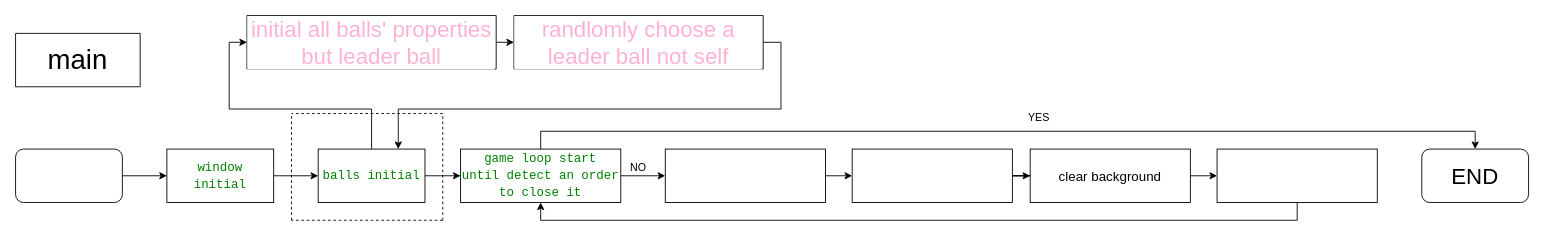
Some shapes in this 1544 by 243 pixel diagram are drawn without their labels. The shapes that lost their labels are listed below. From the top down, each one's centre as x and y in pixels, then its label:
the point at 68,175: start
the point at 744,175: drawing balls
the point at 931,175: update all balls' situation
the point at 1296,175: end drawing
